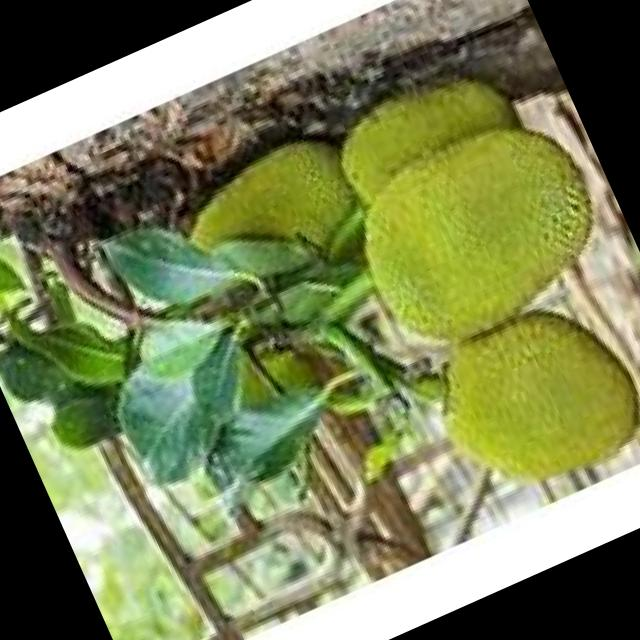Fruit: (282, 14, 640, 389), (396, 267, 640, 531)
